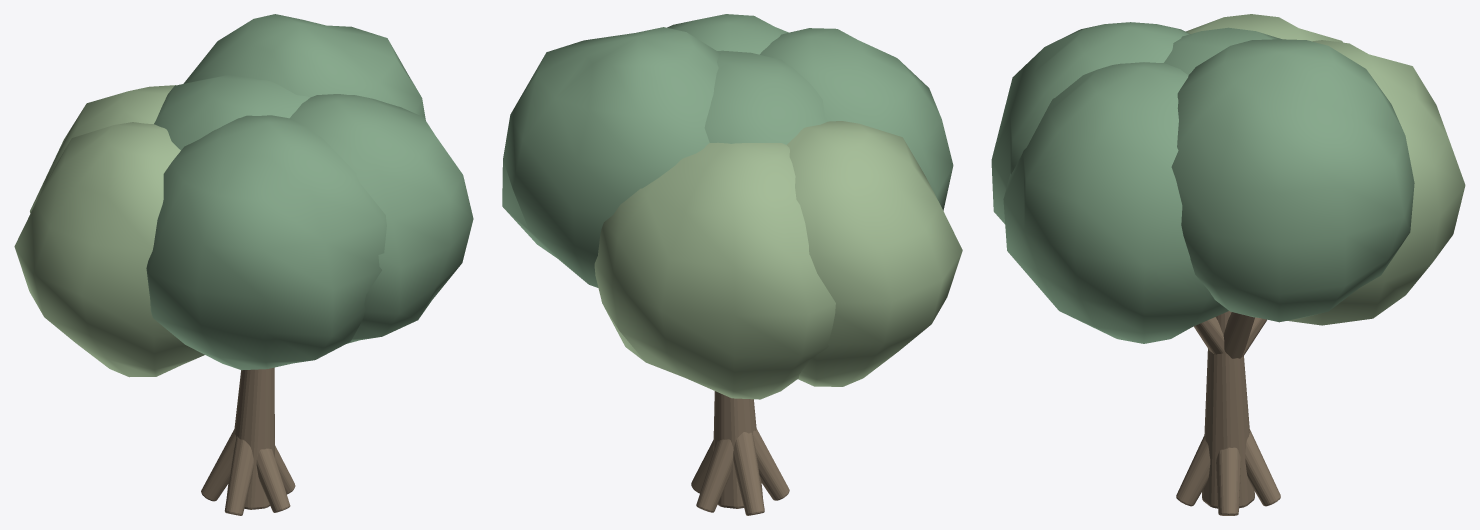
Rendered from SM_Broadleaf_2_UV9615.fbx.
3 views of the same model, side by side, from view 1: azimuth 30°, elevation 25°; view 2: azimuth 150°, elevation 25°; view 3: azimuth 270°, elevation 25° (orthographic). The views are drawn at different scales.
Visible parts, largest first — view 1: SM_Broadleaf_2_UV9615; view 2: SM_Broadleaf_2_UV9615; view 3: SM_Broadleaf_2_UV9615.
Part boxes in pixels (x1,y1,x2,y2): SM_Broadleaf_2_UV9615: (14,14,473,515); SM_Broadleaf_2_UV9615: (502,14,962,515); SM_Broadleaf_2_UV9615: (991,14,1465,515).
Bounding box in the file's own units: 755 × 715 × 809.
